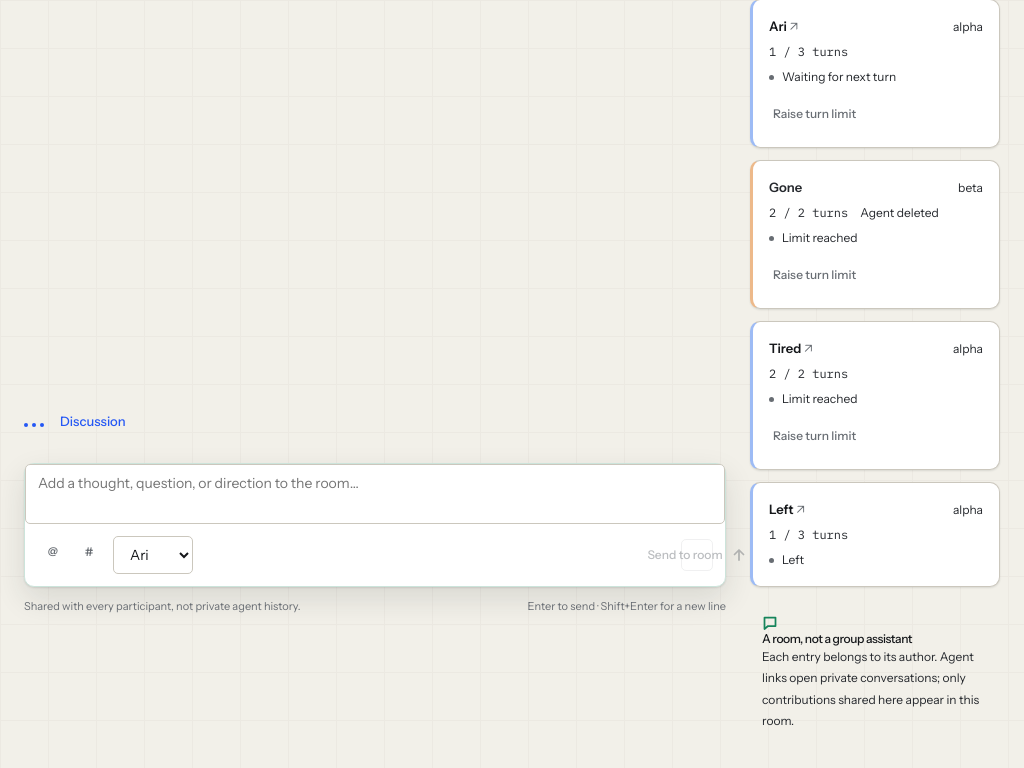
Scenario: ThinkTankPage › offers exhausted live targets with their limit and excludes departed or missing targets
(page scrolled)
Type "@" into the text box labelled "Message the room" at (375, 494), box left=25, top=464, right=725, bottom=524
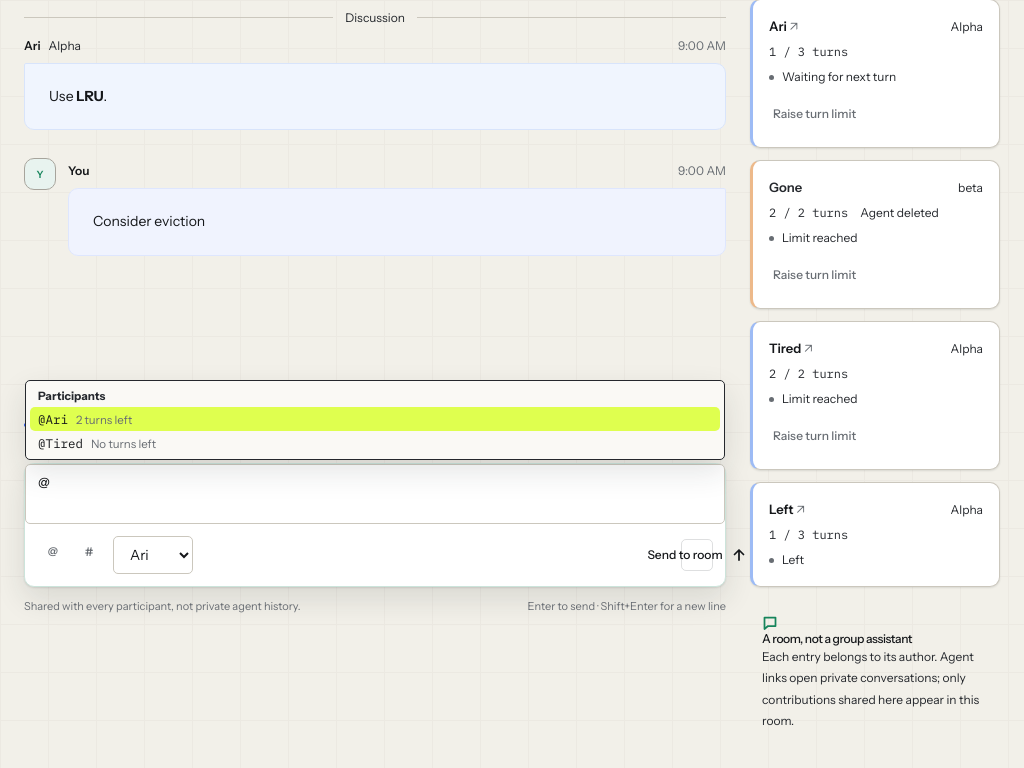
Check: the option "@Tired No turns left" is shown, box left=38, top=435, right=156, bottom=451
Check: the text "No turns left" is shown, box left=91, top=437, right=156, bottom=451
